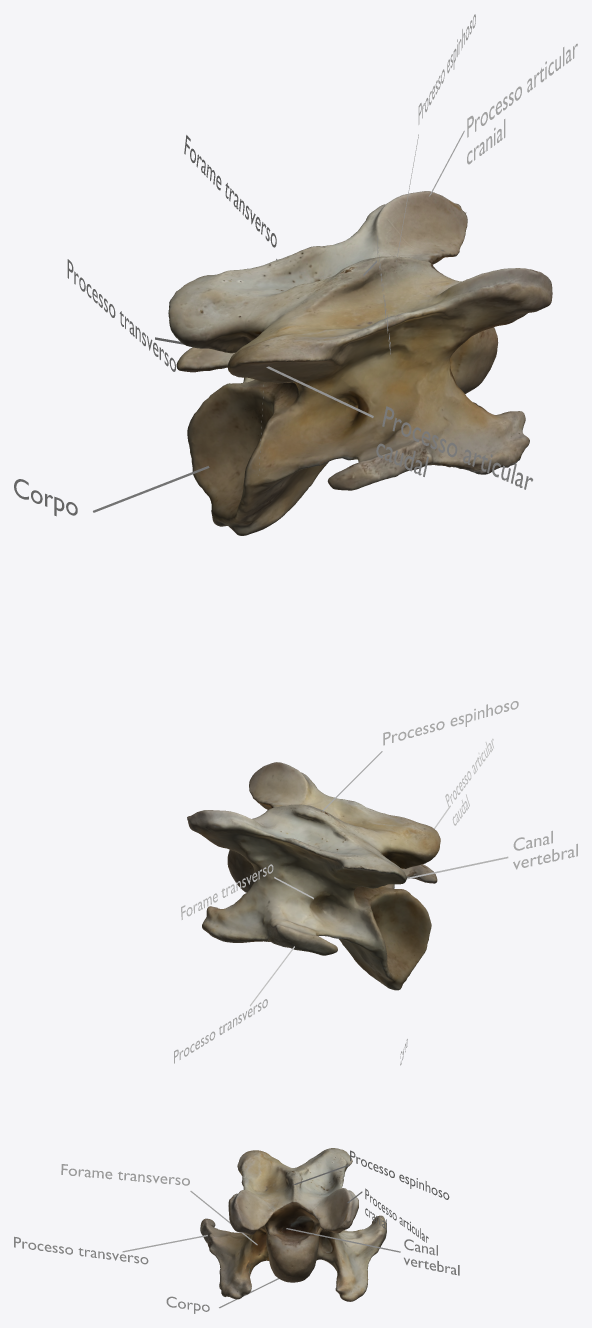
File: 3ª~6ª_Vértebra_Cervical.glb
3 views of the same model, one above another, from view 1: azimuth 30°, elevation 25°; view 2: azimuth 150°, elevation 25°; view 3: azimuth 270°, elevation 25° (orthographic). The views are drawn at different scales.
Parts seen in each view (by area): view 1: 3DModel, Texto.077, Texto.033, Texto.038; view 2: 3DModel, Texto.002, Texto.015, Texto.077, Texto.035, Texto.038; view 3: 3DModel, Texto.003, Texto.026, Texto.004, Texto.007, Texto.033.
Boxes of the visible parts, left/top/right/bottom form: 3DModel: left=168, top=191, right=552, bottom=535; Texto.077: left=376, top=406, right=532, bottom=489; Texto.033: left=467, top=43, right=577, bottom=164; Texto.038: left=67, top=259, right=175, bottom=371; 3DModel: left=187, top=762, right=440, bottom=990; Texto.002: left=383, top=701, right=518, bottom=745; Texto.015: left=513, top=830, right=577, bottom=869; Texto.077: left=445, top=738, right=493, bottom=825; Texto.035: left=181, top=864, right=273, bottom=919; Texto.038: left=174, top=999, right=267, bottom=1063; 3DModel: left=200, top=1148, right=386, bottom=1301; Texto.003: left=14, top=1236, right=148, bottom=1264; Texto.026: left=61, top=1164, right=189, bottom=1185; Texto.004: left=350, top=1150, right=449, bottom=1199; Texto.007: left=404, top=1239, right=459, bottom=1275; Texto.033: left=365, top=1188, right=428, bottom=1242.
Size of the model in its own units: 2.4 by 1.38 by 3.55.
1 material, 1 textured.
